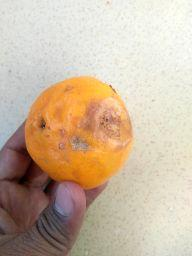Ripe: (24, 77, 134, 190)
